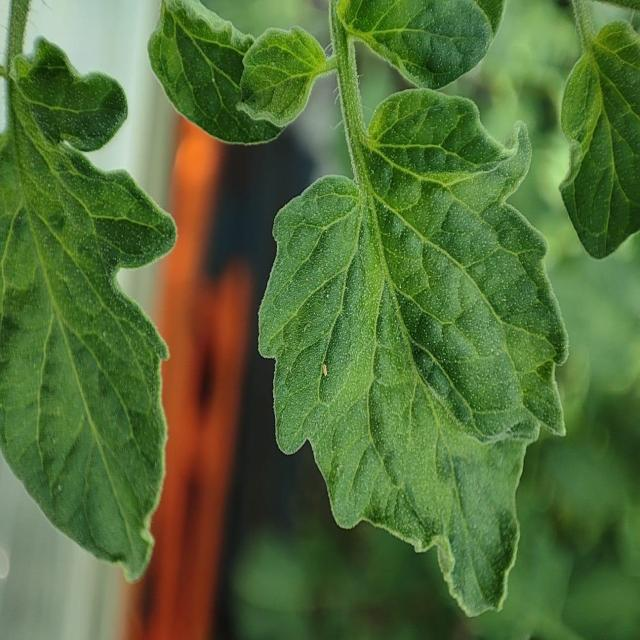T_L_R: (261, 91, 569, 614), (1, 104, 176, 581), (563, 1, 640, 256), (150, 1, 282, 145), (339, 1, 503, 89), (16, 39, 129, 152), (240, 28, 334, 128), (1, 1, 9, 64)
